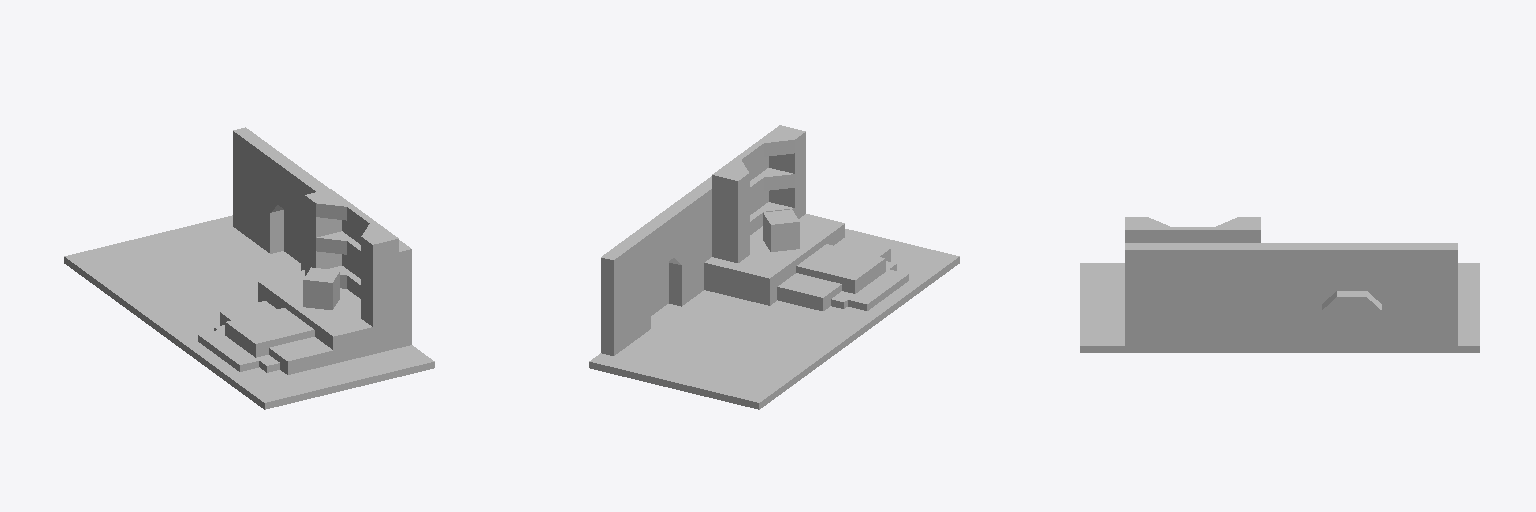
3 views of the same model, side by side, from view 1: azimuth 30°, elevation 25°; view 2: azimuth 150°, elevation 25°; view 3: azimuth 270°, elevation 25° (orthographic).
Parts seen in each view (by area): view 1: entity0_brush5, entity0_brush0, entity0_brush22, entity0_brush12, entity0_brush4, entity0_brush13, entity0_brush19, entity0_brush3, entity0_brush20, entity0_brush24, entity0_brush1, entity0_brush21 (+5 smaller); view 2: entity0_brush5, entity0_brush0, entity0_brush22, entity0_brush23, entity0_brush13, entity0_brush4, entity0_brush12, entity0_brush2, entity0_brush20, entity0_brush24, entity0_brush1, entity0_brush21 (+5 smaller); view 3: entity0_brush19, entity0_brush5, entity0_brush22, entity0_brush23, entity0_brush21, entity0_brush24, entity0_brush16, entity0_brush25, entity0_brush12, entity0_brush13.
Part boxes in pixels (x1,y1,x2,y2): entity0_brush5: (64,215,434,409); entity0_brush0: (258,270,398,363); entity0_brush22: (233,127,283,253); entity0_brush12: (361,230,398,326); entity0_brush4: (225,308,314,357); entity0_brush13: (305,189,341,275); entity0_brush19: (342,220,411,347); entity0_brush3: (269,337,332,374); entity0_brush20: (303,267,339,309); entity0_brush24: (270,155,312,212); entity0_brush1: (198,330,258,371); entity0_brush21: (284,210,300,262); entity0_brush5: (589,229,959,409); entity0_brush0: (704,214,844,305); entity0_brush22: (601,230,650,355); entity0_brush23: (669,186,711,306); entity0_brush13: (712,167,749,262); entity0_brush4: (796,244,885,293); entity0_brush12: (769,125,805,218); entity0_brush2: (777,273,841,310); entity0_brush20: (763,209,799,251); entity0_brush24: (639,208,680,287); entity0_brush1: (848,269,908,310); entity0_brush21: (651,262,668,315); entity0_brush19: (1125,243,1260,345); entity0_brush5: (1080,263,1479,352); entity0_brush22: (1382,243,1457,345); entity0_brush23: (1246,243,1321,345); entity0_brush21: (1322,291,1381,351); entity0_brush24: (1322,243,1381,303); entity0_brush16: (1148,227,1237,242); entity0_brush25: (1322,251,1351,303); entity0_brush12: (1125,217,1147,242); entity0_brush13: (1238,217,1260,242).
Bounding box in the file's own units: 224 × 136 × 424.